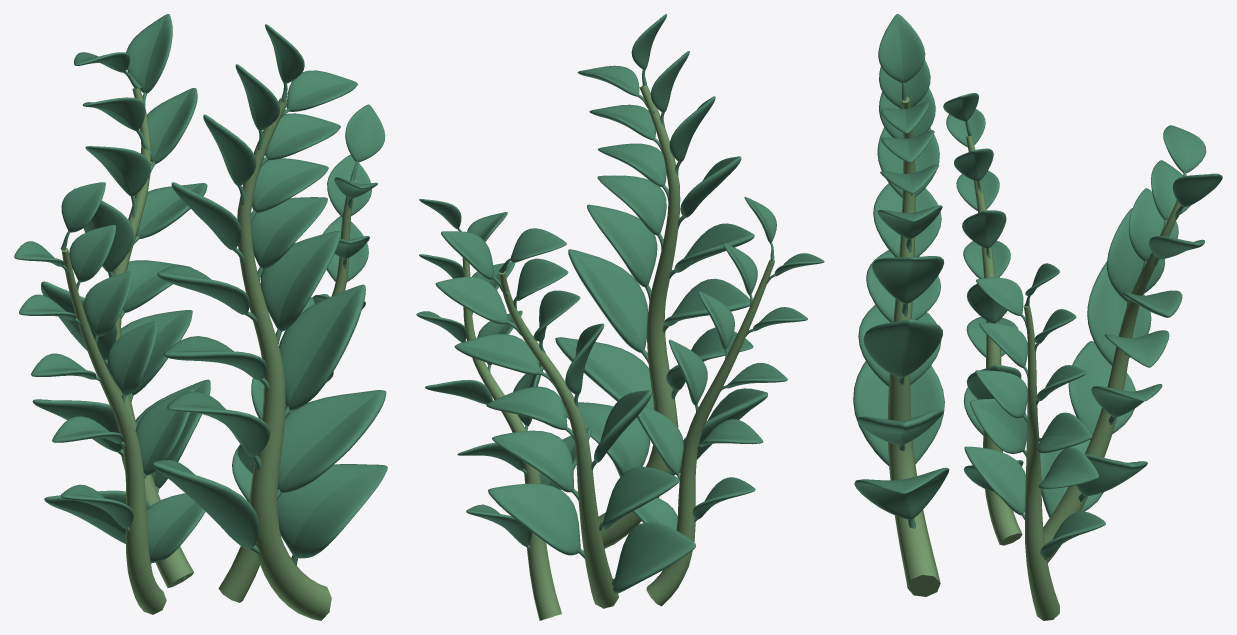
The model's file is zamioculcas.glb.
The picture shows the model from 3 angles, left to right: view 1: azimuth 30°, elevation 25°; view 2: azimuth 150°, elevation 25°; view 3: azimuth 270°, elevation 25°; orthographic projection. The views are drawn at different scales.
Visible parts, largest first — view 1: Plane.039, Plane.042, Plane.041, NurbsPath.030, Plane.040, NurbsPath.034, NurbsPath.035, NurbsPath.031; view 2: Plane.039, Plane.042, Plane.041, Plane.040, NurbsPath.030, NurbsPath.035, NurbsPath.034, NurbsPath.031; view 3: Plane.039, Plane.042, Plane.040, Plane.041, NurbsPath.030, NurbsPath.031, NurbsPath.035, NurbsPath.034.
Boxes of the visible parts, x1,y1,x2,y2 form: Plane.039: (152,24,387,566); Plane.042: (32,14,210,581); Plane.041: (14,182,205,563); NurbsPath.030: (237,98,331,620); Plane.040: (232,104,385,502); NurbsPath.034: (61,248,166,614); NurbsPath.035: (106,88,193,587); NurbsPath.031: (218,180,356,602); Plane.039: (555,14,767,476); Plane.042: (435,228,695,593); Plane.041: (632,197,824,530); Plane.040: (416,199,591,549); NurbsPath.030: (598,85,680,548); NurbsPath.035: (499,271,618,608); NurbsPath.034: (646,259,774,606); NurbsPath.031: (462,258,561,620); Plane.039: (853,14,949,528); Plane.042: (1040,125,1222,517); Plane.040: (964,263,1105,559); Plane.041: (943,93,1023,494); NurbsPath.030: (887,96,940,596); NurbsPath.031: (1023,305,1059,620); NurbsPath.035: (1043,200,1181,562); NurbsPath.034: (966,135,1022,545).
Size of the model in its own units: 15.82 by 23.82 by 13.72.
